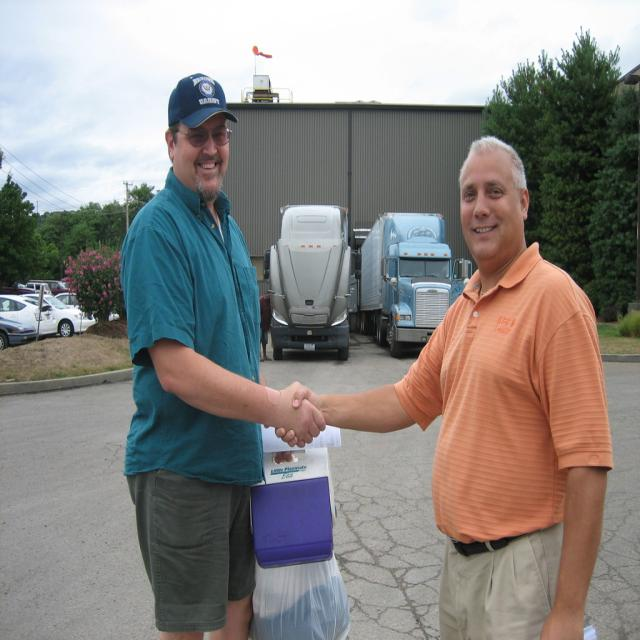car: (0, 312, 37, 348)
